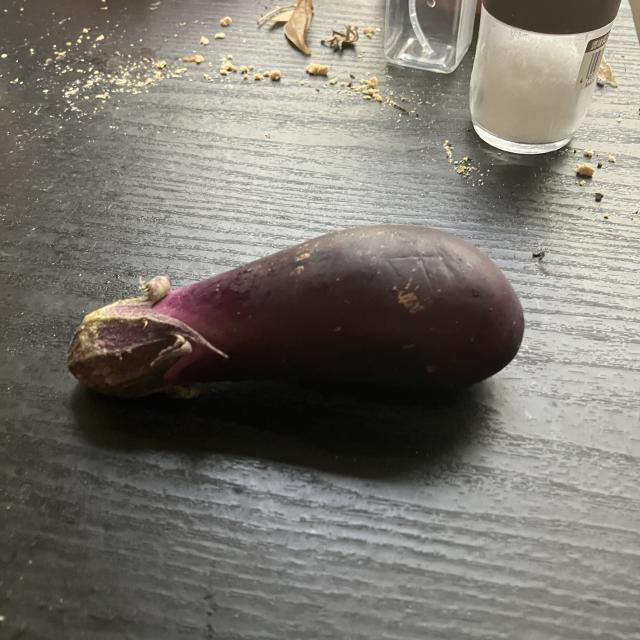eggplant: (63, 221, 527, 401)
